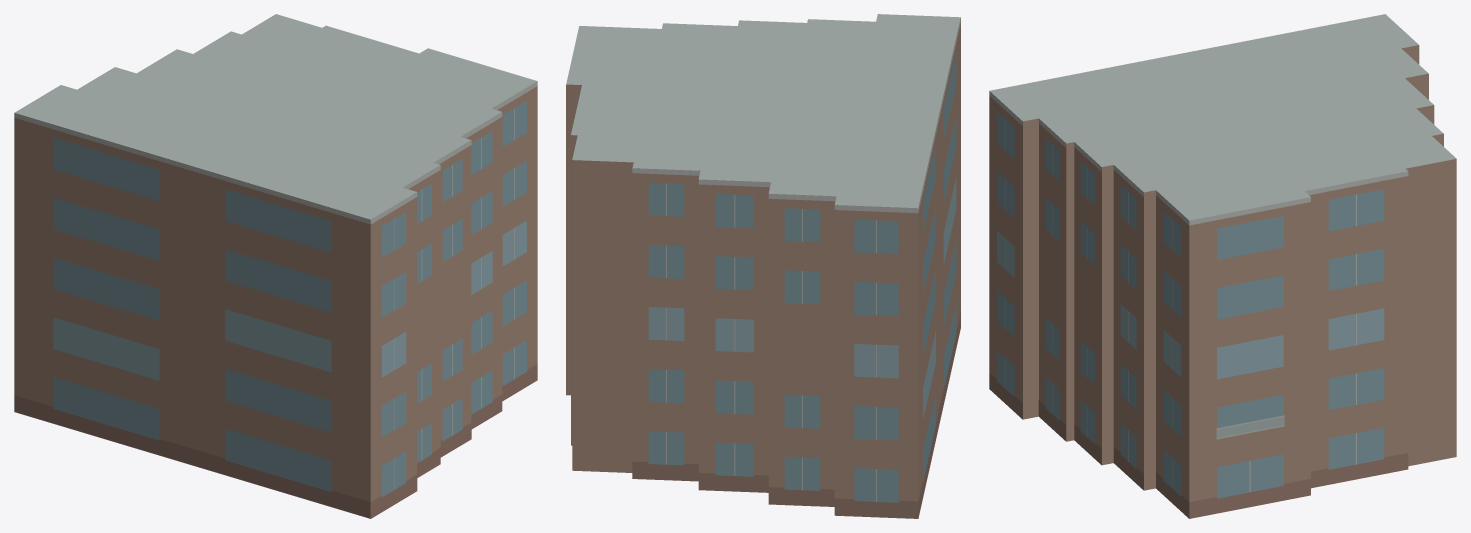
File: survey-upis-32618173.glb
3 renders of one model, left to right at view 1: azimuth 30°, elevation 25°; view 2: azimuth 150°, elevation 25°; view 3: azimuth 270°, elevation 25°, orthographic. The views are drawn at different scales.
Parts seen in each view (by area): view 1: survey-upis-32618173.tmp; view 2: survey-upis-32618173.tmp; view 3: survey-upis-32618173.tmp.
Part boxes in pixels (x1=…): survey-upis-32618173.tmp: x1=14, y1=14, x2=537, y2=518; survey-upis-32618173.tmp: x1=566, y1=14, x2=960, y2=518; survey-upis-32618173.tmp: x1=989, y1=14, x2=1456, y2=518.
Bounding box in the file's own units: 22.38 × 15.05 × 21.39.
